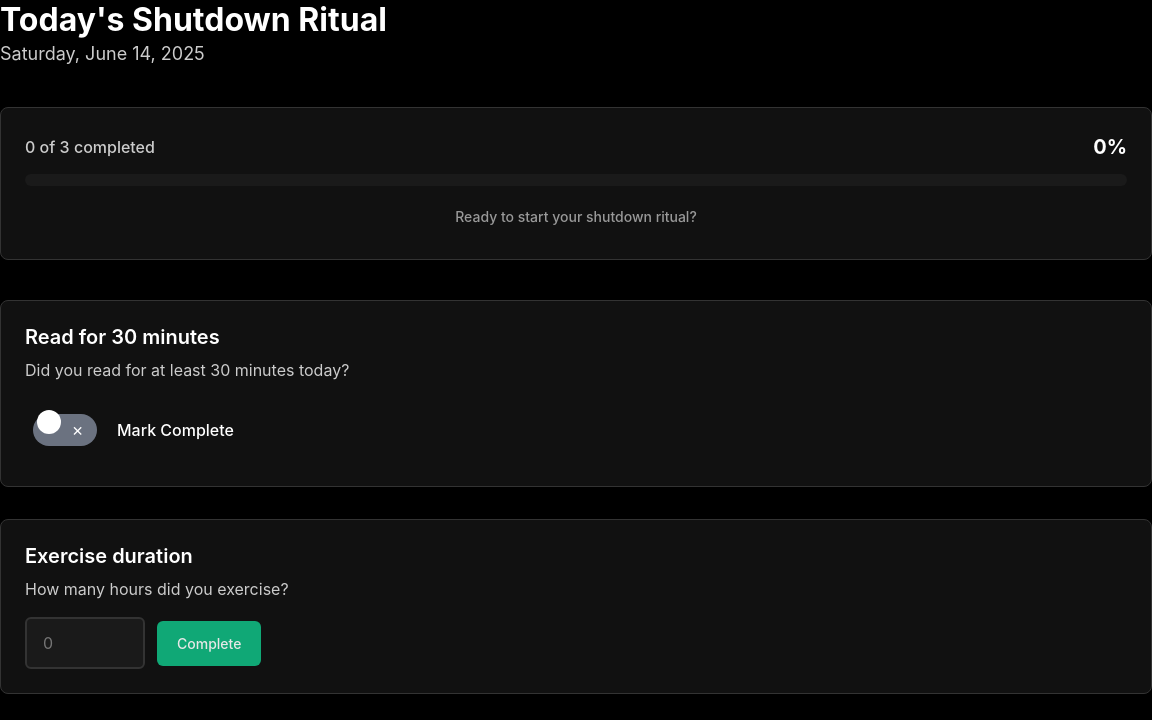
Test: DailyCompletionView › Habit Completion Tracking › should track numeric habit completion
The image size is (1152, 720).
Expected: the heading "Exercise duration" is shown, [25,544,193,568]
Expected: the button with aria-label "submit value for exercise duration" is disabled, [157,620,261,666]
Type "2" into the number field named "enter value for exercise duration".
click(85, 643); type("2")  # box [25,617,145,669]
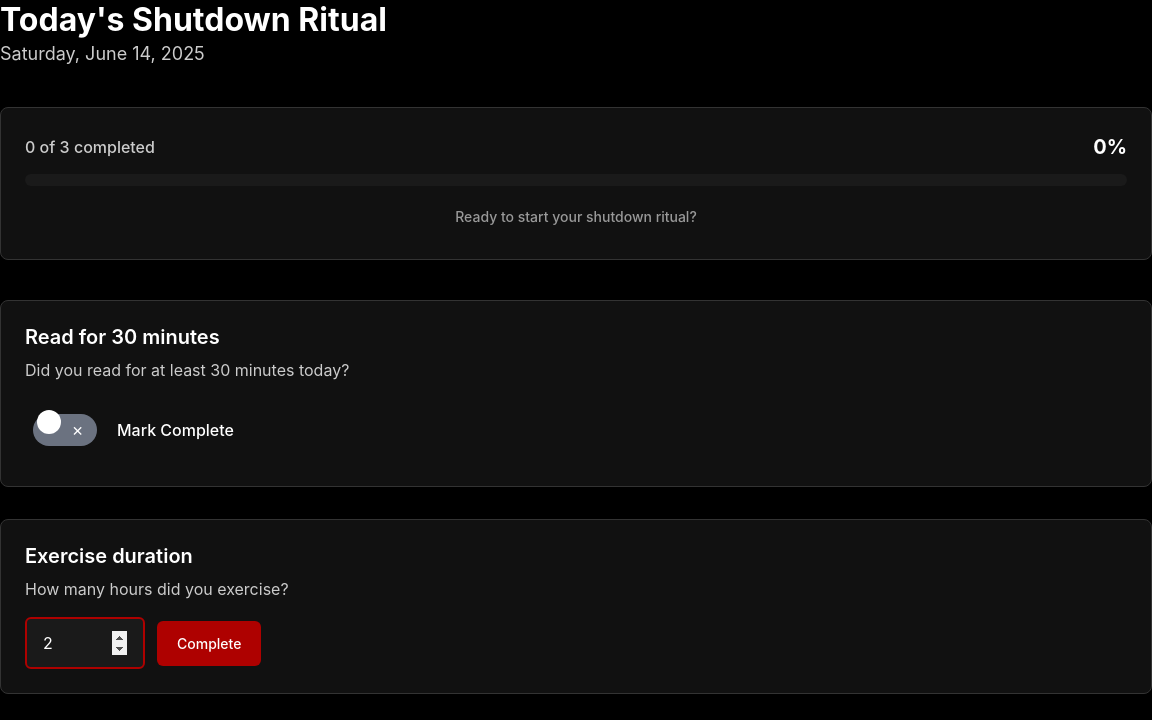
Now the button with aria-label "submit value for exercise duration" is enabled
Click the button with aria-label "submit value for exercise duration".
click(209, 643)  # box [157,620,261,666]
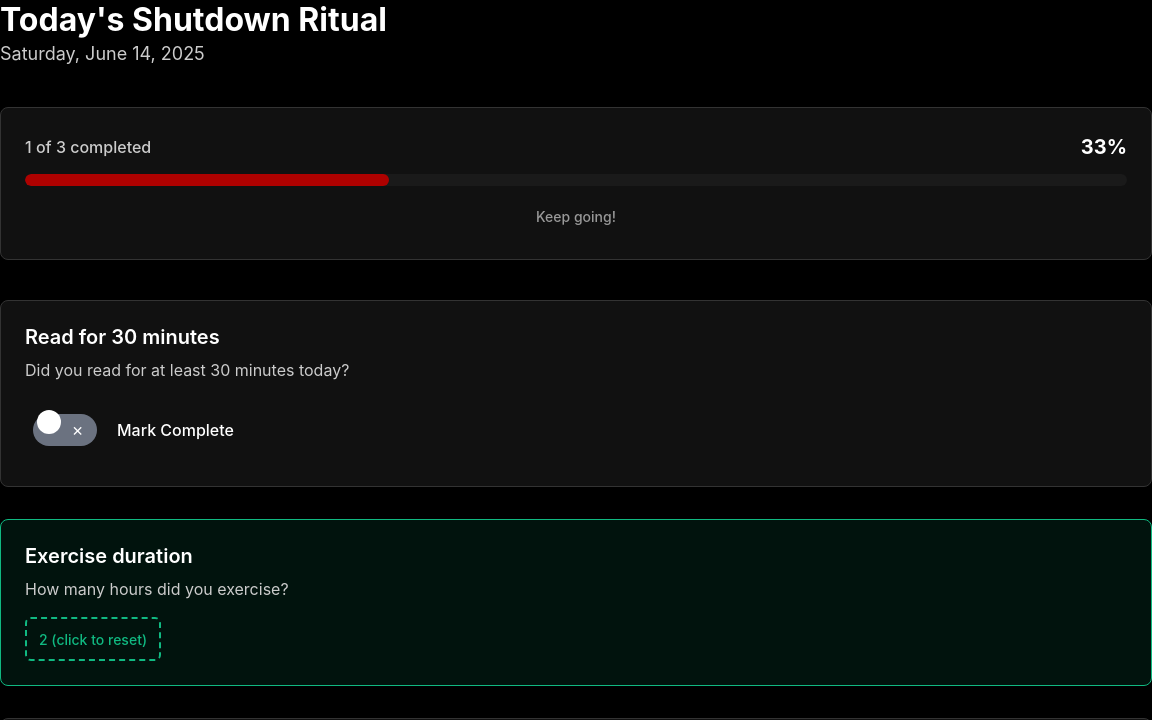
Now the button "2 (click to reset)" is shown, box [25,617,161,661]
